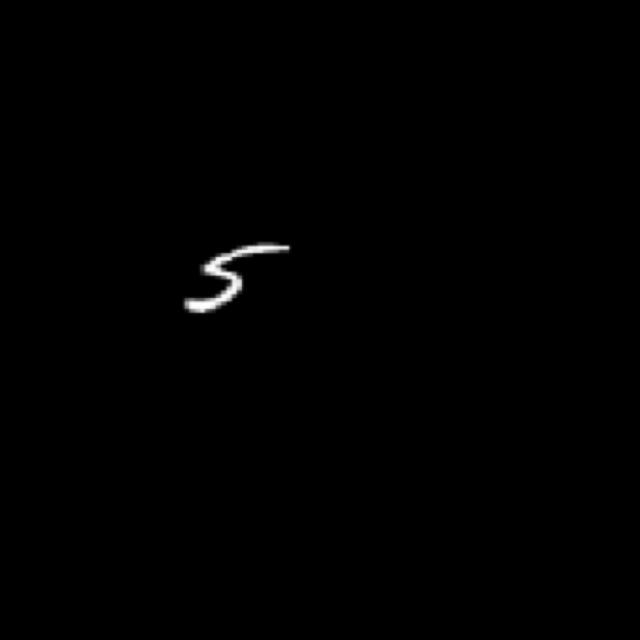five -5-: (172, 234, 300, 319)
